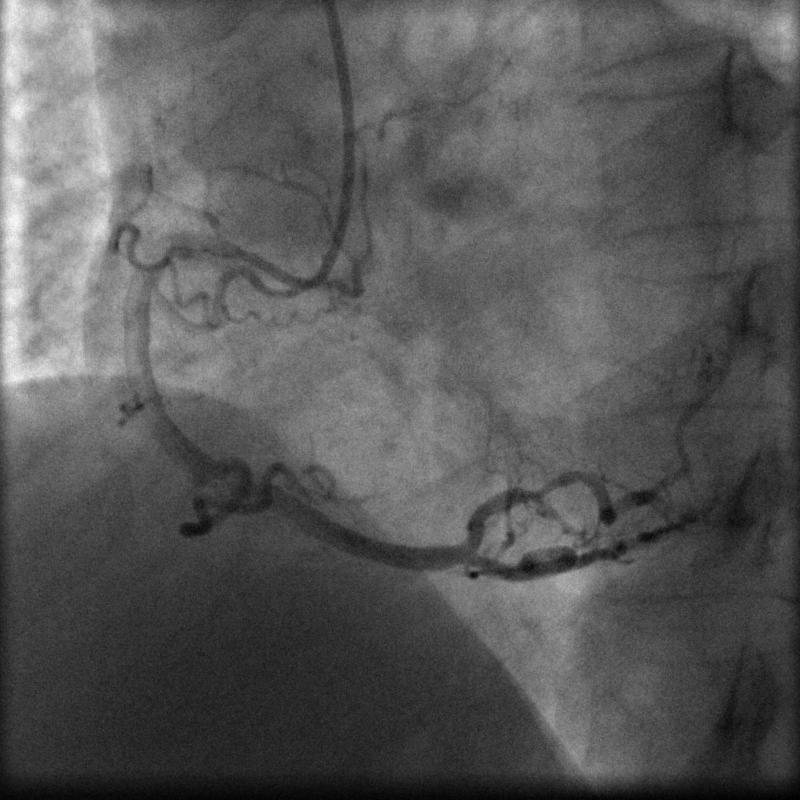Stenosis: (516, 473, 560, 510)
